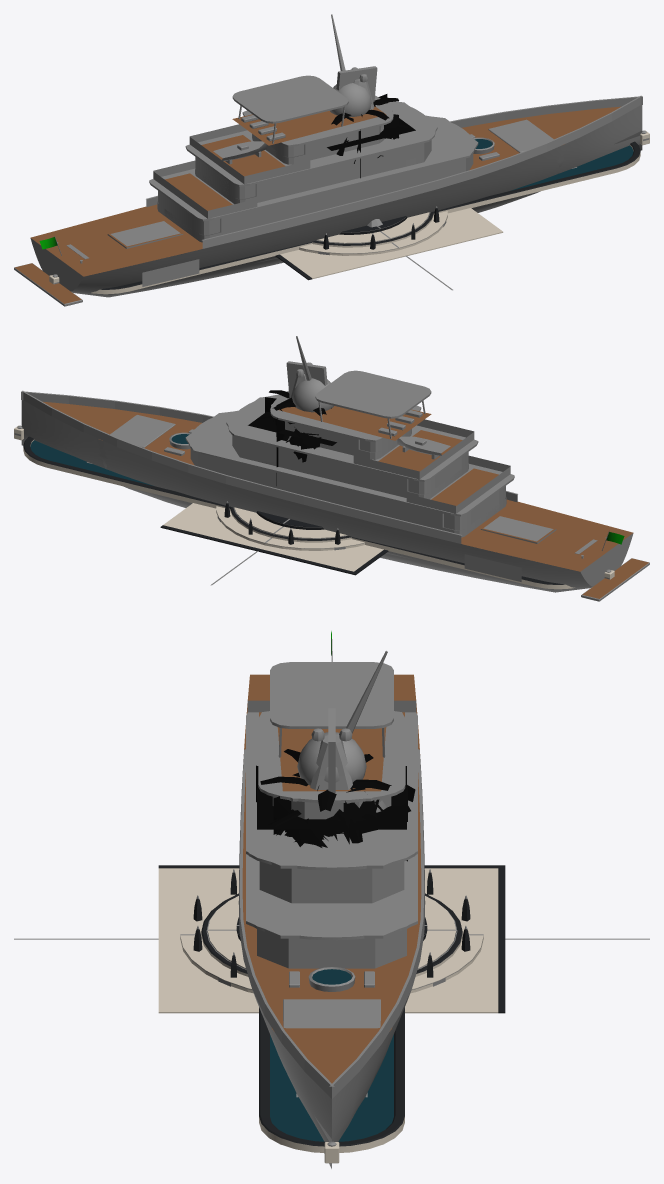
The model's file is meridian-street-kit.glb.
3 views of the same model, one above another, from view 1: azimuth 30°, elevation 25°; view 2: azimuth 150°, elevation 25°; view 3: azimuth 270°, elevation 25° (orthographic). The views are drawn at different scales.
Parts seen in each view (by area): view 1: superyacht | trim atlas, superyacht-lod | trim atlas, superyacht-lod | timber, superyacht | timber, plaza-paving | travertine, meridian-line-sculpture | travertine, dancing-fountain | travertine, meridian-line-sculpture | trim atlas, dancing-fountain | granite, dancing-fountain | water, plane-tree-lod | foliage, meridian-line-sculpture | granite; view 2: superyacht | trim atlas, superyacht-lod | trim atlas, superyacht-lod | timber, superyacht | timber, plaza-paving | travertine, meridian-line-sculpture | travertine, dancing-fountain | travertine, meridian-line-sculpture | trim atlas, dancing-fountain | granite, dancing-fountain | water, plane-tree-lod | foliage, plaza-paving | granite (+2 smaller); view 3: superyacht | trim atlas, superyacht-lod | trim atlas, plaza-paving | travertine, superyacht-lod | timber, meridian-line-sculpture | travertine, dancing-fountain | water, meridian-line-sculpture | trim atlas, dancing-fountain | granite, plane-tree-lod | foliage, superyacht | timber, plaza-paving | granite, plane-tree | foliage (+4 smaller).
Part boxes in pixels (x1=…): superyacht | trim atlas: x1=14, y1=67, x2=642, y2=306; superyacht-lod | trim atlas: x1=31, y1=66, x2=642, y2=289; superyacht-lod | timber: x1=31, y1=106, x2=620, y2=276; superyacht | timber: x1=15, y1=106, x2=597, y2=303; plaza-paving | travertine: x1=280, y1=208, x2=503, y2=279; meridian-line-sculpture | travertine: x1=299, y1=211, x2=447, y2=255; dancing-fountain | travertine: x1=49, y1=130, x2=649, y2=294; meridian-line-sculpture | trim atlas: x1=299, y1=14, x2=452, y2=290; dancing-fountain | granite: x1=101, y1=141, x2=640, y2=289; dancing-fountain | water: x1=511, y1=145, x2=633, y2=190; plane-tree-lod | foliage: x1=327, y1=94, x2=415, y2=178; meridian-line-sculpture | granite: x1=323, y1=208, x2=439, y2=249; superyacht | trim atlas: x1=21, y1=362, x2=649, y2=601; superyacht-lod | trim atlas: x1=22, y1=361, x2=632, y2=585; superyacht-lod | timber: x1=43, y1=401, x2=633, y2=571; superyacht | timber: x1=65, y1=403, x2=648, y2=598; plaza-paving | travertine: x1=163, y1=503, x2=383, y2=571; meridian-line-sculpture | travertine: x1=216, y1=506, x2=364, y2=550; dancing-fountain | travertine: x1=14, y1=425, x2=614, y2=589; meridian-line-sculpture | trim atlas: x1=210, y1=336, x2=364, y2=585; dancing-fountain | granite: x1=23, y1=436, x2=564, y2=584; dancing-fountain | water: x1=30, y1=440, x2=153, y2=485; plane-tree-lod | foliage: x1=248, y1=397, x2=336, y2=485; plaza-paving | granite: x1=160, y1=525, x2=388, y2=575; superyacht | trim atlas: x1=238, y1=639, x2=425, y2=1141; superyacht-lod | trim atlas: x1=246, y1=662, x2=417, y2=1168; plaza-paving | travertine: x1=158, y1=868, x2=498, y2=1013; superyacht-lod | timber: x1=242, y1=674, x2=421, y2=1083; meridian-line-sculpture | travertine: x1=180, y1=884, x2=483, y2=993; dancing-fountain | water: x1=270, y1=1034, x2=393, y2=1141; meridian-line-sculpture | trim atlas: x1=14, y1=651, x2=649, y2=989; dancing-fountain | granite: x1=259, y1=1007, x2=404, y2=1146; plane-tree-lod | foliage: x1=256, y1=765, x2=407, y2=861; superyacht | timber: x1=243, y1=680, x2=420, y2=791; plaza-paving | granite: x1=158, y1=865, x2=505, y2=1013; plane-tree | foliage: x1=276, y1=772, x2=415, y2=847.
Bounding box in the file's own units: 74.9 × 25.24 × 44.
